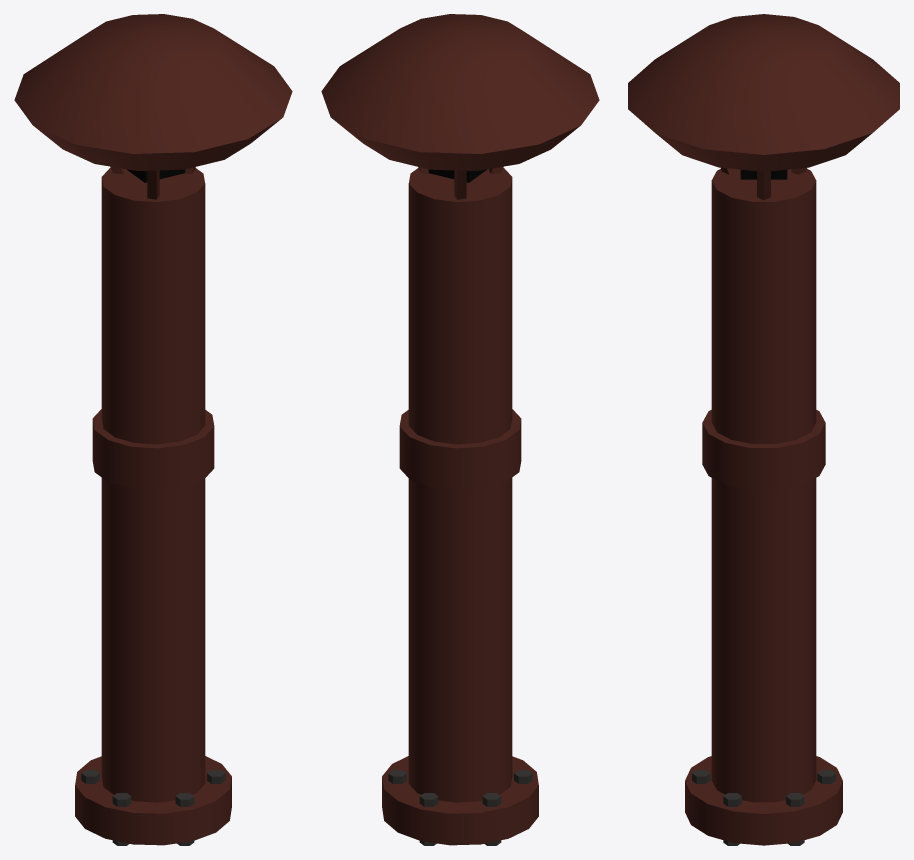
Rendered from PipeVent.fbx.
3 views of the same model, side by side, from view 1: azimuth 30°, elevation 25°; view 2: azimuth 150°, elevation 25°; view 3: azimuth 270°, elevation 25° (orthographic).
Parts seen in each view (by area): view 1: PipeVent_Pipe, PipeVent_Bolts; view 2: PipeVent_Pipe, PipeVent_Bolts; view 3: PipeVent_Pipe, PipeVent_Bolts.
Part boxes in pixels (bbox=[...]): PipeVent_Pipe: bbox=[14, 14, 292, 845]; PipeVent_Bolts: bbox=[81, 770, 225, 845]; PipeVent_Pipe: bbox=[321, 14, 599, 845]; PipeVent_Bolts: bbox=[388, 770, 532, 845]; PipeVent_Pipe: bbox=[628, 14, 899, 845]; PipeVent_Bolts: bbox=[692, 770, 835, 845].
Bounding box in the file's own units: 0.24 × 0.747 × 0.234.
